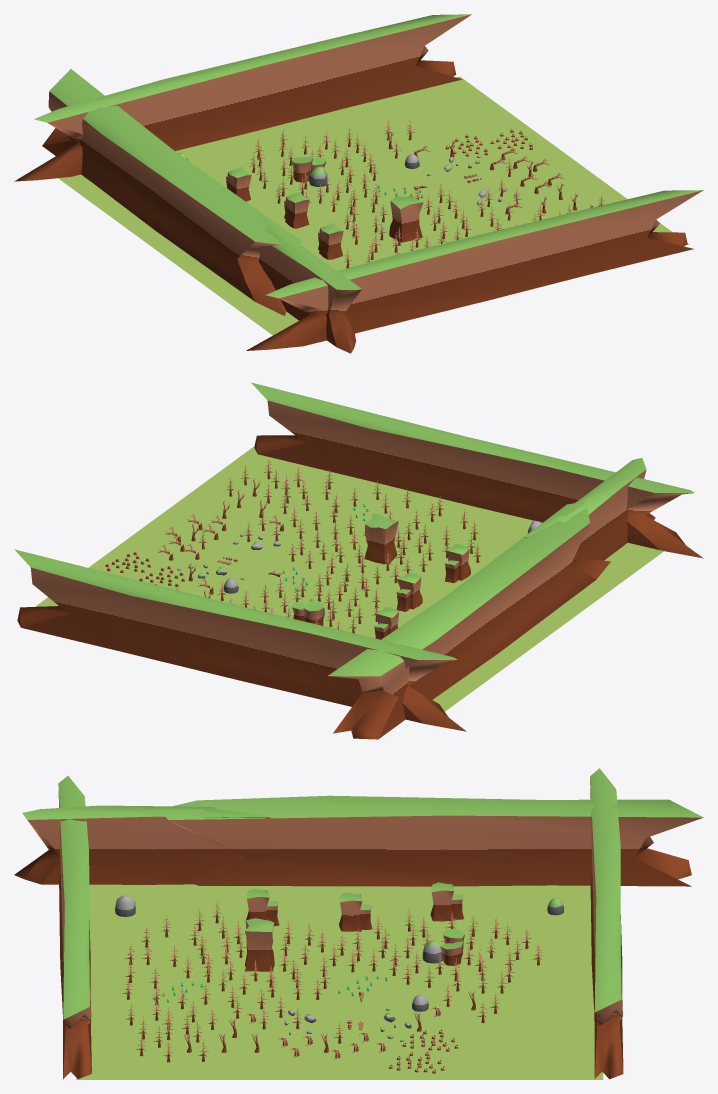
The model's file is lvl1.glb.
The picture shows the model from 3 angles, top to bottom: view 1: azimuth 30°, elevation 25°; view 2: azimuth 150°, elevation 25°; view 3: azimuth 270°, elevation 25°; orthographic projection. The views are drawn at different scales.
Visible parts, largest first — view 1: Plane, Ground.005, Ground.008, Ground.011, Ground.003, Ground.018, Ground.004, Ground.007, Ground.006, Ground.001; view 2: Plane, Ground.005, Ground.008, Ground.011, Ground.003, Ground.018, Ground.007, Ground.004, Ground.001, Ground.006; view 3: Plane, Ground.011, Ground.003, Ground.005, Ground.008, Ground.018, Ground.006, Ground.004, Ground.007, Ground.001.
Part boxes in pixels (x1,y1,x2,y2): Plane: [58, 76, 689, 335]; Ground.005: [14, 14, 471, 181]; Ground.008: [246, 190, 703, 350]; Ground.011: [42, 69, 302, 315]; Ground.003: [255, 208, 361, 353]; Ground.018: [389, 195, 423, 242]; Ground.004: [284, 191, 309, 228]; Ground.007: [318, 223, 343, 259]; Ground.006: [226, 167, 251, 201]; Ground.001: [291, 156, 326, 182]; Plane: [35, 447, 663, 711]; Ground.005: [14, 549, 466, 731]; Ground.008: [251, 382, 703, 558]; Ground.011: [328, 501, 610, 739]; Ground.003: [523, 458, 655, 560]; Ground.018: [364, 513, 398, 564]; Ground.007: [445, 544, 470, 583]; Ground.004: [396, 573, 422, 611]; Ground.001: [292, 601, 323, 625]; Ground.006: [374, 607, 398, 639]; Plane: [76, 884, 603, 1079]; Ground.011: [158, 795, 703, 886]; Ground.003: [14, 805, 270, 884]; Ground.005: [590, 768, 623, 1079]; Ground.008: [58, 776, 91, 1079]; Ground.018: [245, 918, 274, 971]; Ground.006: [430, 882, 464, 921]; Ground.004: [339, 892, 372, 931]; Ground.007: [246, 889, 279, 926]; Ground.001: [440, 929, 464, 965].
Size of the model in its own units: 137 by 19.11 by 158.
189 materials, 189 textured.
